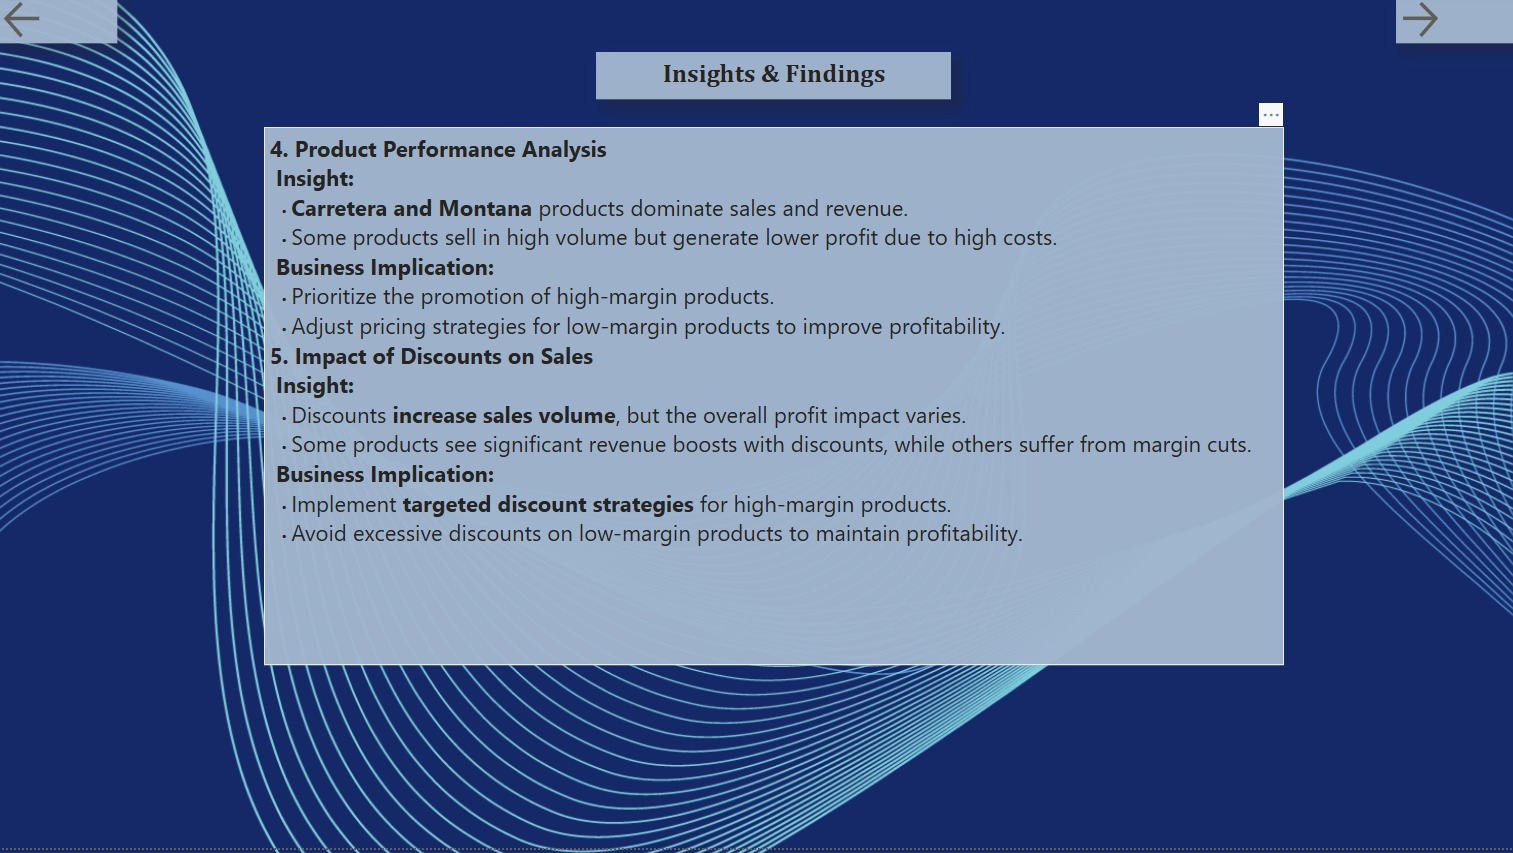

The dashboard page shown, as its layout file describes it:
{"tool":"powerbi","page":{"name":"INSIGHTS & FINDINGS","canvas":[1280,720],"ordinal":5},"visuals":[{"type":"textbox","box":[223.9,110.7,862,454.6],"z":0},{"type":"textbox","box":[504.5,47.3,300,39.7],"z":1000},{"type":"actionButton","box":[1180.6,0,99.7,39.7],"z":2000},{"type":"actionButton","box":[0,0,100,40],"z":3000}]}

Visuals, with their boxes in screenshot pixels (x1, y1, x2, y2), scaled from the page's 1280x720 canvas onto the 1513x853 screenshot:
textbox: {"x1": 265, "y1": 131, "x2": 1284, "y2": 670}
textbox: {"x1": 596, "y1": 56, "x2": 951, "y2": 103}
actionButton: {"x1": 1396, "y1": 0, "x2": 1512, "y2": 47}
actionButton: {"x1": 0, "y1": 0, "x2": 118, "y2": 47}
